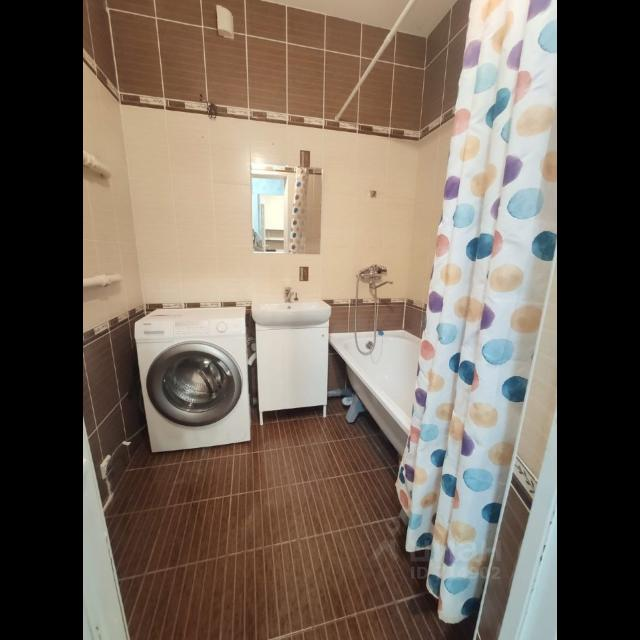Washing-Machine: (133, 305, 253, 451)
